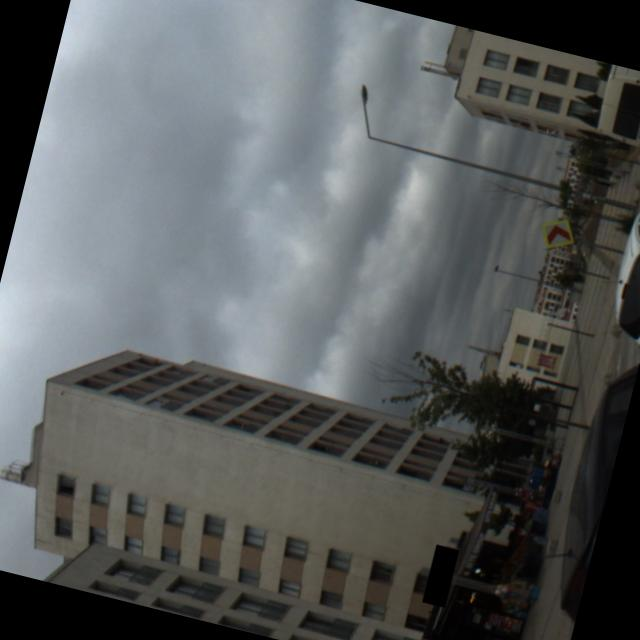SignStore: (422, 545, 459, 606)
